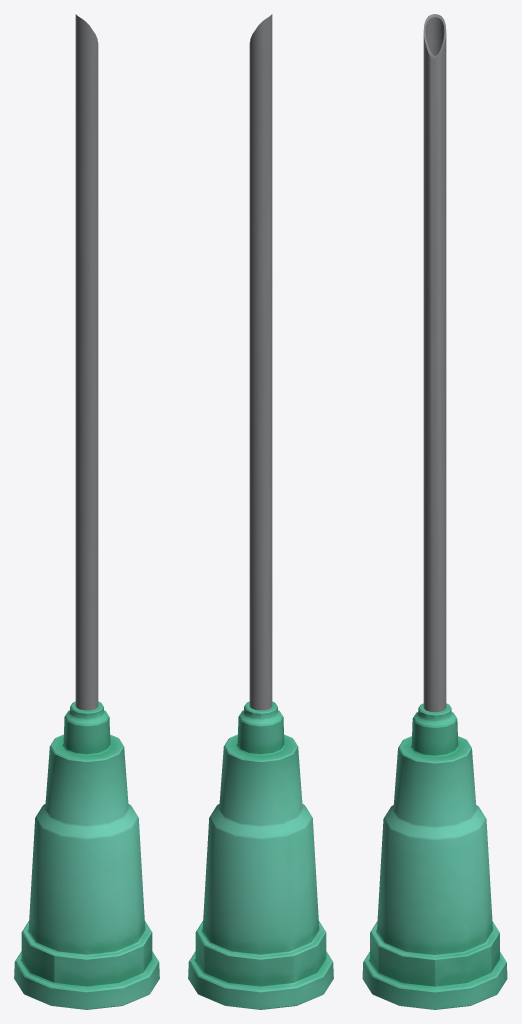
The model's file is FBX_SyringeNeedle18g.fbx.
3 renders of one model, left to right at view 1: azimuth 30°, elevation 25°; view 2: azimuth 150°, elevation 25°; view 3: azimuth 270°, elevation 25°, orthographic.
Visible parts, largest first — view 1: SM_SyringeNeedle_18g; view 2: SM_SyringeNeedle_18g; view 3: SM_SyringeNeedle_18g.
Boxes of the visible parts, x1,y1,x2,y2 form: SM_SyringeNeedle_18g: (14,14,159,1009); SM_SyringeNeedle_18g: (188,14,333,1009); SM_SyringeNeedle_18g: (362,14,507,1009).
Size of the model in its own units: 0.00448 by 0.0328 by 0.00448.
